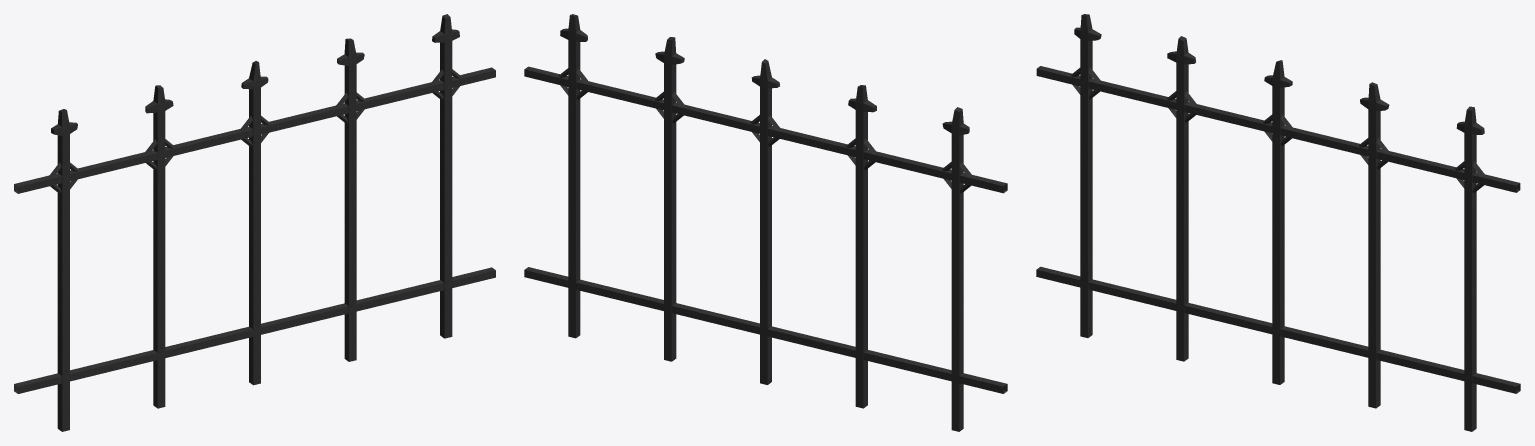
Rendered from fence_export.fbx.
The picture shows the model from 3 angles, left to right: view 1: azimuth 30°, elevation 25°; view 2: azimuth 150°, elevation 25°; view 3: azimuth 330°, elevation 25°; orthographic projection.
Visible parts, largest first — view 1: fence_geo; view 2: fence_geo; view 3: fence_geo.
Part boxes in pixels (x1,y1,x2,y2): fence_geo: (14, 14, 495, 431); fence_geo: (524, 14, 1007, 431); fence_geo: (1036, 14, 1520, 431).
Size of the model in its own units: 250 by 161 by 4.
